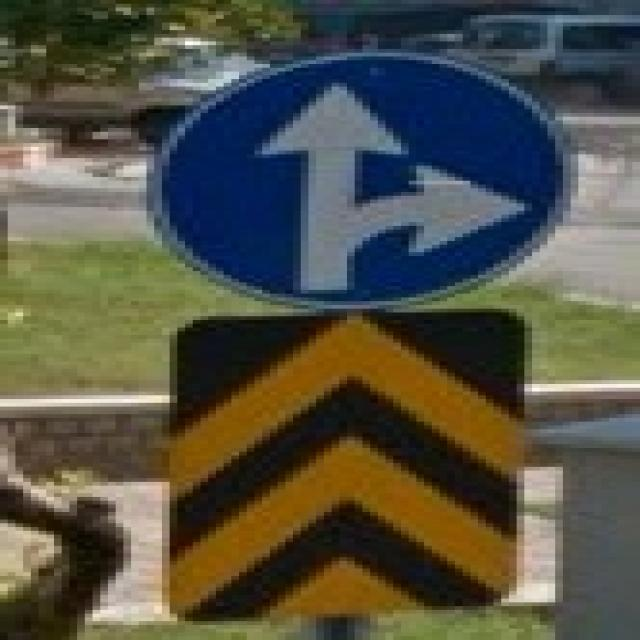Straight or Right: (140, 50, 556, 302)
